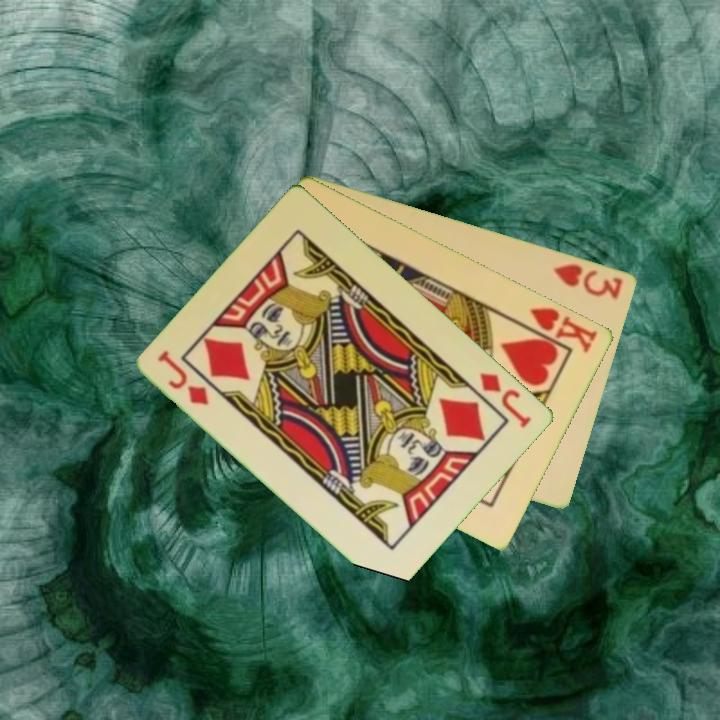3h: (550, 260, 626, 302)
Jd: (154, 346, 212, 409), (477, 369, 535, 431)
Kh: (516, 303, 602, 356)
